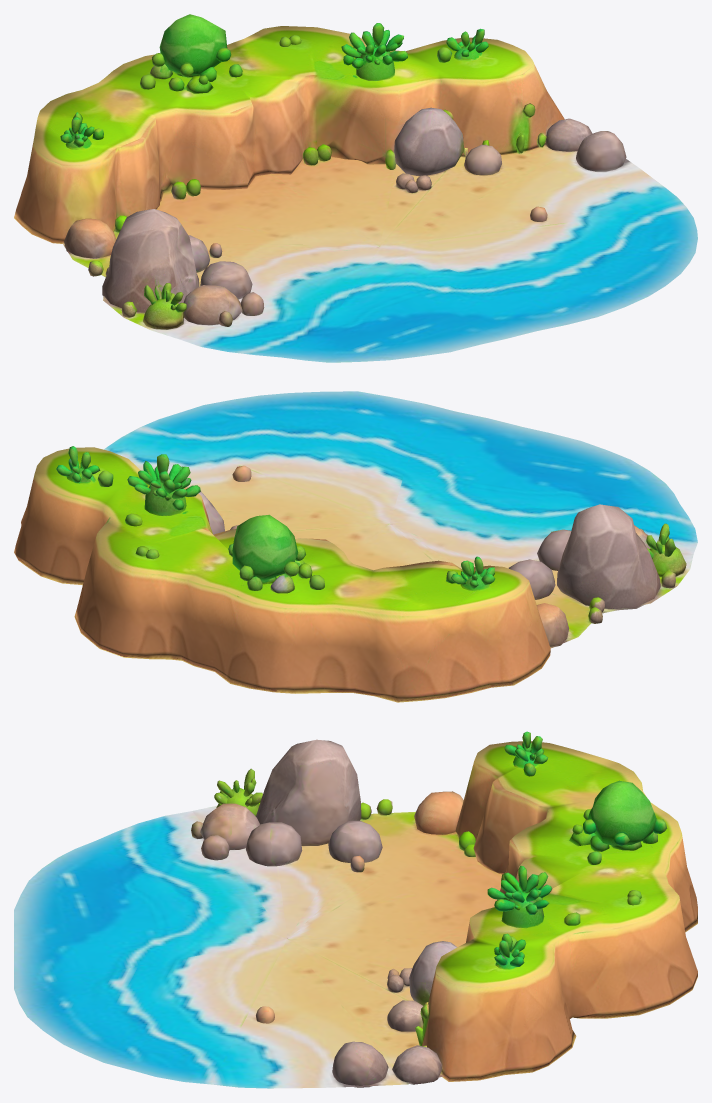
Rendered from r6c1_beach_shoreline.glb.
3 views of the same model, one above another, from view 1: azimuth 30°, elevation 25°; view 2: azimuth 150°, elevation 25°; view 3: azimuth 270°, elevation 25° (orthographic). The views are drawn at different scales.
Size of the model in its own units: 0.9941 by 0.229 by 1.
1 material, 1 textured.
